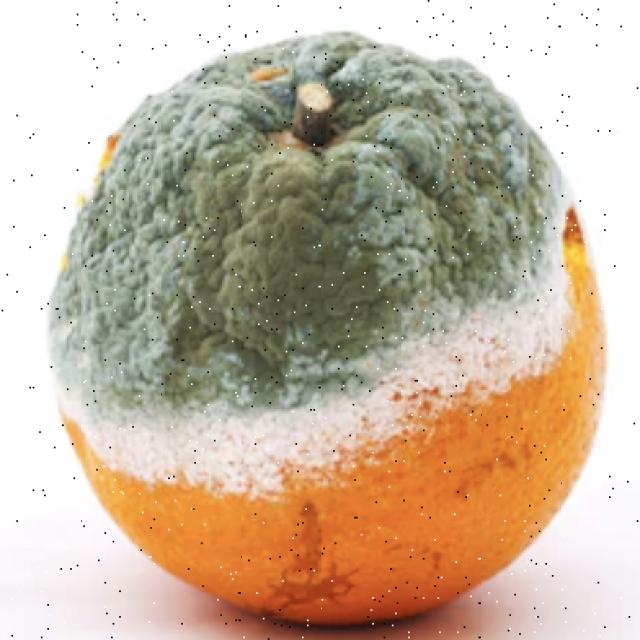Organik: (28, 7, 634, 632)
